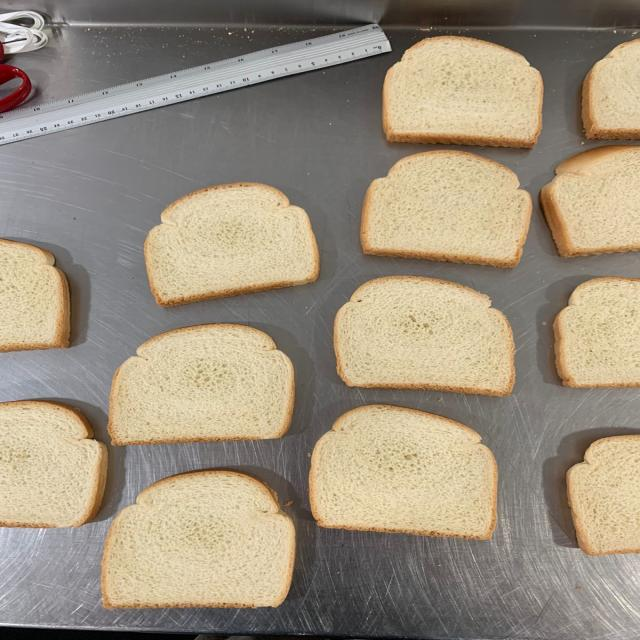sliced_bread: (102, 469, 296, 607), (308, 404, 498, 541), (107, 323, 295, 445), (144, 182, 320, 307), (333, 277, 515, 396), (359, 150, 532, 270), (382, 36, 544, 148)
